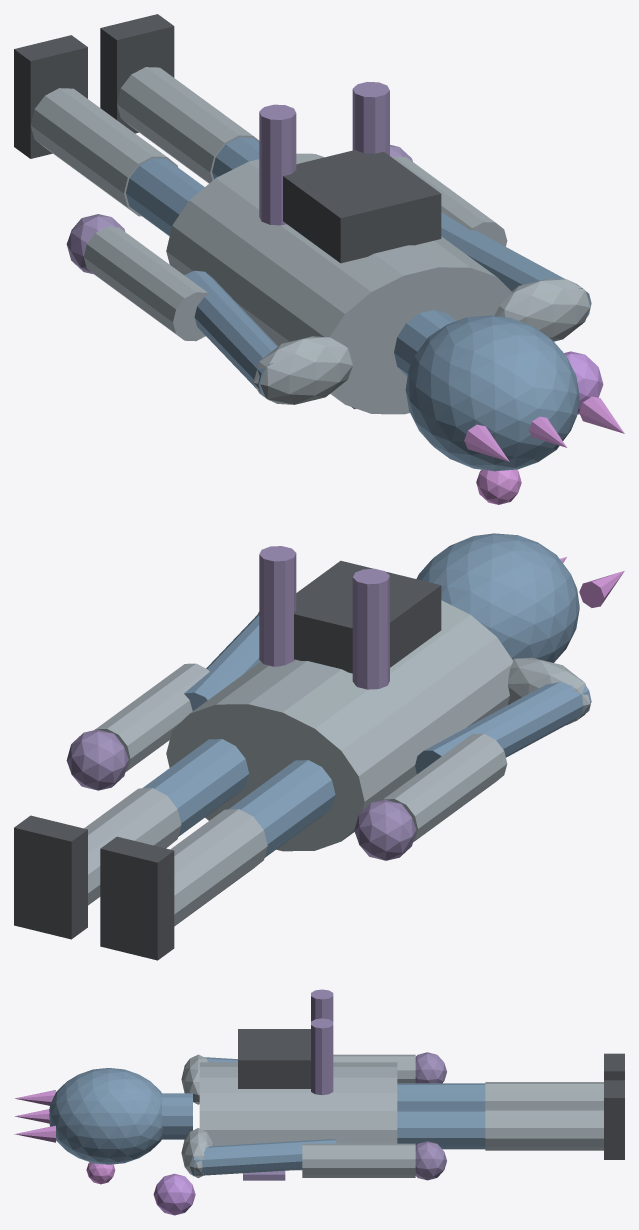
The model's file is SWN-007_naelo_korr.glb.
3 views of the same model, one above another, from view 1: azimuth 30°, elevation 25°; view 2: azimuth 150°, elevation 25°; view 3: azimuth 270°, elevation 25° (orthographic). The views are drawn at different scales.
Parts seen in each view (by area): view 1: body_spine, head, back_thruster_pack, greave_-1, greave_1, forearm_gauntlet_-1, boot_-1, shoulder_plate_-1, boot_1, upper_arm_-1, shoulder_plate_1, aether_thruster_-1 (+11 smaller); view 2: body_spine, head, back_thruster_pack, boot_-1, boot_1, greave_-1, forearm_gauntlet_-1, upper_arm_-1, thigh_-1, thigh_1, forearm_gauntlet_1, greave_1 (+7 smaller); view 3: body_spine, head, greave_1, back_thruster_pack, forearm_gauntlet_1, thigh_1, greave_-1, upper_arm_1, thigh_-1, aether_thruster_1, boot_1, neck (+12 smaller).
Boxes of the visible parts, x1,y1,x2,y2 form: body_spine: (166, 153, 512, 414); head: (405, 315, 579, 471); back_thruster_pack: (283, 150, 441, 263); greave_-1: (30, 88, 177, 216); greave_1: (117, 67, 259, 183); forearm_gauntlet_-1: (84, 227, 209, 341); boot_-1: (14, 35, 87, 158); shoulder_plate_-1: (253, 336, 353, 404); boot_1: (100, 14, 174, 133); upper_arm_-1: (184, 270, 277, 400); shoulder_plate_1: (494, 278, 590, 341); aether_thruster_-1: (259, 104, 296, 225); body_spine: (166, 600, 512, 851); head: (416, 533, 579, 662); back_thruster_pack: (294, 560, 441, 673); boot_-1: (100, 836, 174, 960); boot_1: (14, 815, 87, 939); greave_-1: (170, 809, 267, 926); forearm_gauntlet_-1: (382, 733, 507, 842); upper_arm_-1: (415, 678, 591, 774); thigh_-1: (229, 760, 335, 857); thigh_1: (142, 739, 249, 836); forearm_gauntlet_1: (95, 663, 209, 772); greave_1: (84, 788, 181, 905); body_spine: (199, 1062, 397, 1170); head: (49, 1068, 162, 1164); greave_1: (485, 1108, 603, 1150); back_thruster_pack: (238, 1029, 310, 1088); forearm_gauntlet_1: (302, 1143, 415, 1177); thigh_1: (397, 1110, 485, 1149); greave_-1: (485, 1082, 603, 1108); upper_arm_1: (193, 1139, 336, 1176); thigh_-1: (397, 1083, 485, 1109); aether_thruster_1: (311, 1018, 333, 1095); boot_1: (604, 1080, 624, 1159); neck: (161, 1093, 192, 1139).
Size of the model in its own units: 0.95 by 0.73 by 2.32.
